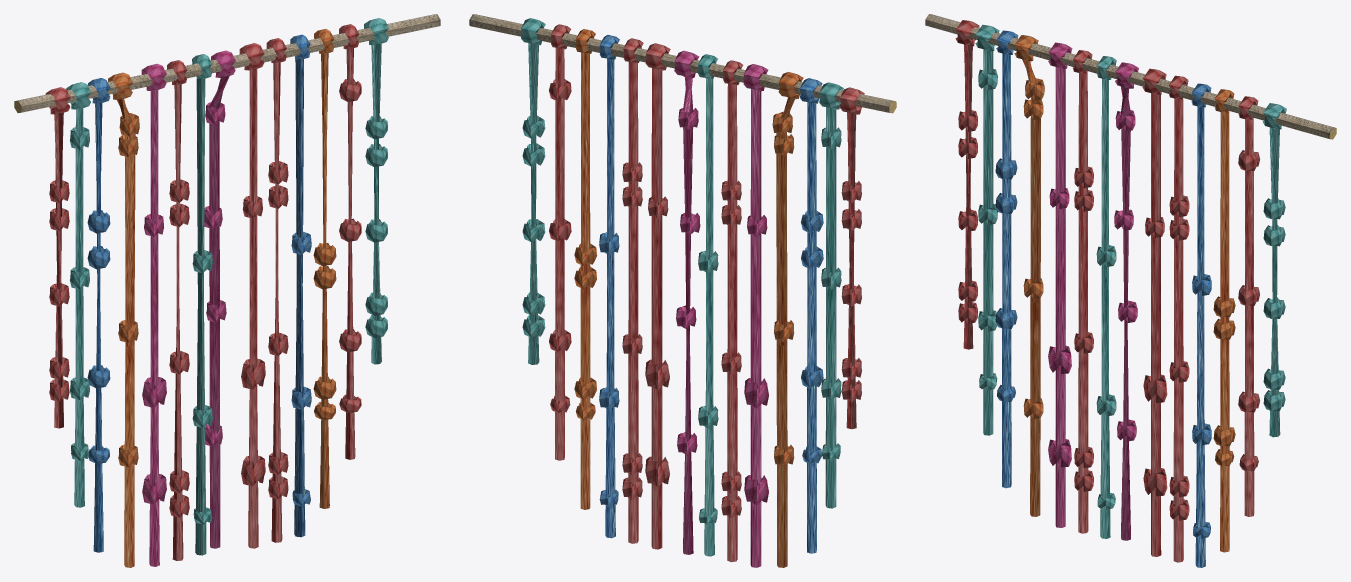
File: quipu.glb
3 renders of one model, left to right at view 1: azimuth 30°, elevation 25°; view 2: azimuth 150°, elevation 25°; view 3: azimuth 330°, elevation 25°, orthographic. The views are drawn at different scales.
Parts seen in each view (by area): view 1: Object_10, Object_15, Object_5, Object_4, Object_13, Object_16, Object_7, Object_14, Object_3, Object_6, Object_12, Object_11 (+3 smaller); view 2: Object_10, Object_4, Object_14, Object_3, Object_5, Object_12, Object_6, Object_7, Object_13, Object_16, Object_15, Object_11 (+3 smaller); view 3: Object_10, Object_4, Object_5, Object_14, Object_3, Object_12, Object_6, Object_7, Object_13, Object_16, Object_15, Object_11 (+3 smaller).
Part boxes in pixels (x1,y1,x2,y2): Object_10: [239, 24, 361, 548]; Object_15: [204, 50, 235, 548]; Object_5: [108, 72, 139, 567]; Object_4: [141, 63, 166, 566]; Object_13: [290, 34, 311, 537]; Object_16: [192, 54, 212, 555]; Object_7: [66, 82, 91, 507]; Object_14: [266, 38, 288, 542]; Object_3: [167, 60, 189, 560]; Object_6: [87, 78, 110, 552]; Object_12: [313, 29, 336, 508]; Object_11: [364, 18, 388, 364]; Object_10: [549, 24, 670, 549]; Object_4: [743, 64, 768, 567]; Object_14: [622, 38, 643, 543]; Object_3: [721, 60, 743, 562]; Object_5: [772, 72, 803, 567]; Object_12: [574, 29, 597, 509]; Object_6: [800, 78, 823, 553]; Object_7: [819, 82, 843, 508]; Object_13: [599, 35, 619, 538]; Object_16: [697, 54, 718, 556]; Object_15: [674, 50, 700, 554]; Object_11: [521, 18, 545, 364]; Object_10: [1142, 68, 1260, 556]; Object_4: [1048, 42, 1072, 527]; Object_5: [1014, 35, 1044, 516]; Object_14: [1168, 75, 1189, 562]; Object_3: [1073, 50, 1093, 533]; Object_12: [1213, 89, 1235, 552]; Object_6: [995, 30, 1018, 488]; Object_7: [975, 24, 999, 435]; Object_13: [1191, 83, 1211, 567]; Object_16: [1096, 56, 1116, 538]; Object_15: [1114, 62, 1138, 540]; Object_11: [1263, 103, 1286, 437].
Bounding box in the file's own units: 37.39 × 43.1 × 2.65.
15 materials, 15 textured.
